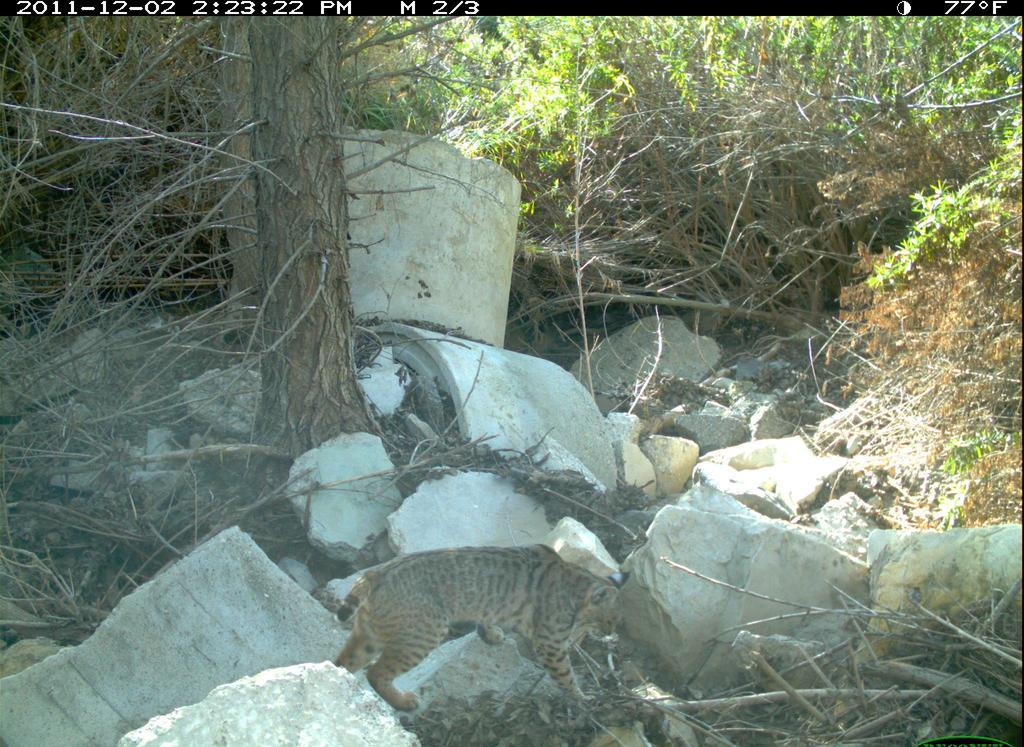bobcat: (321, 538, 641, 722)
